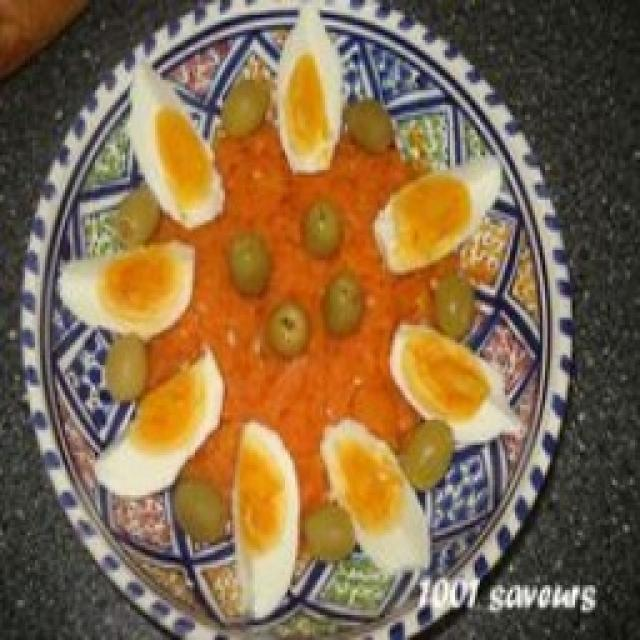Couscous: (25, 0, 571, 640)
